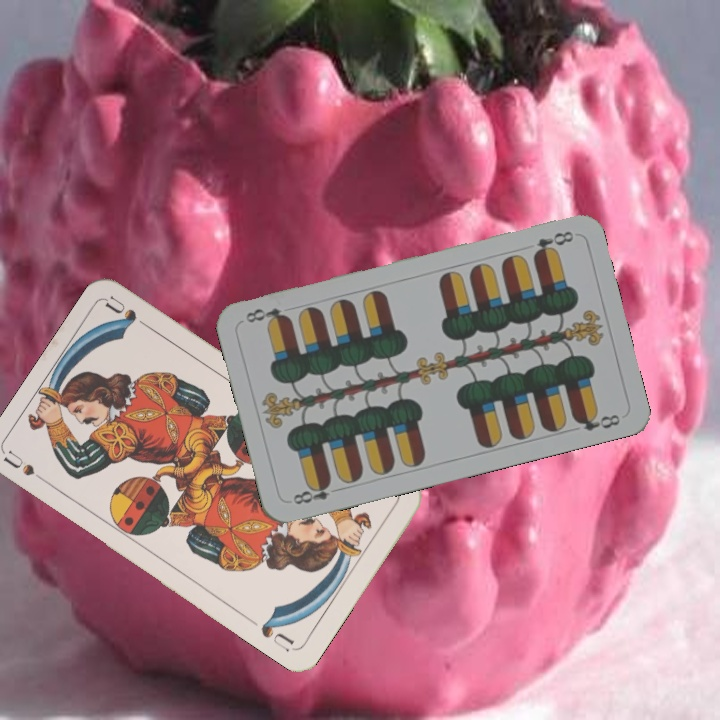E8: (289, 476, 344, 508), (528, 227, 576, 260)
SU: (1, 447, 55, 490)
